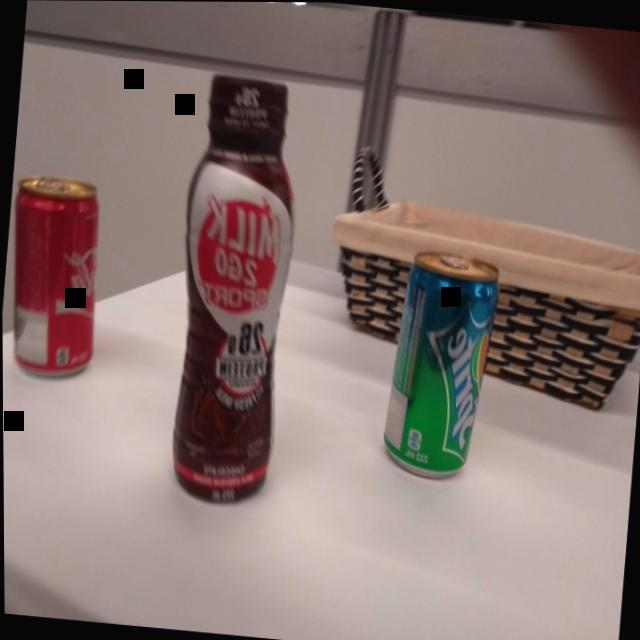chocolate_drink: (156, 67, 313, 513)
coke: (1, 167, 111, 390)
sprite: (373, 243, 505, 488)
